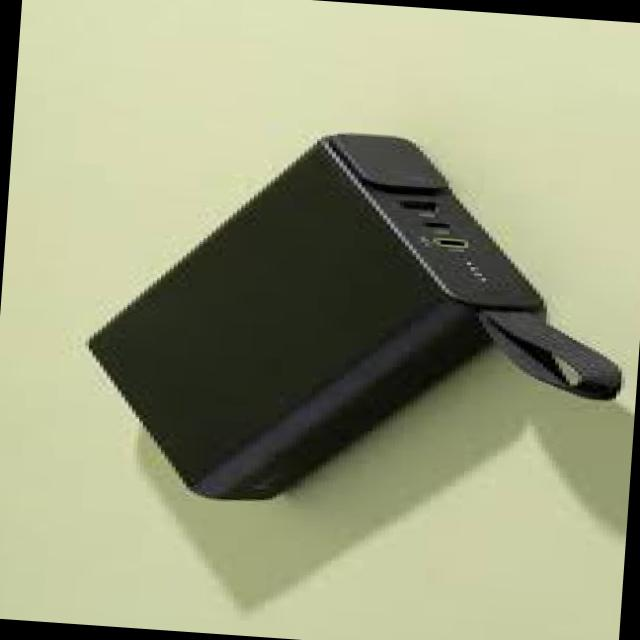power_bank: (75, 100, 640, 525)
